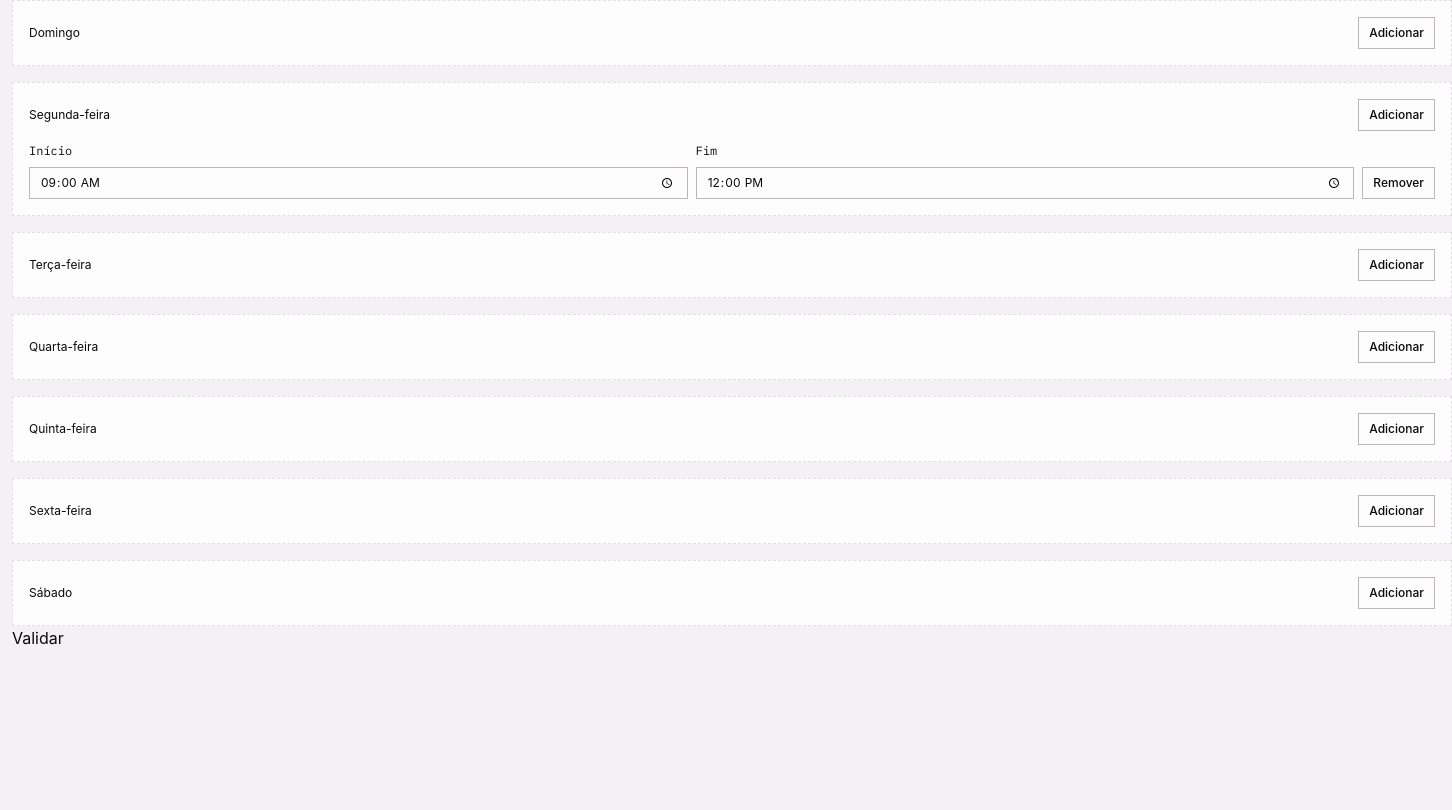
Test: WeeklyScheduleEditor (T33, spec.md SCH-02/SCH-03/SCH-08) › removing a window via its "Remover" button drops that row from the weekday group
The width and height of the screenshot is (1452, 810).
Expected: the number of time fields labelled "Início" is 1, [29, 167, 688, 199]
Click the button "Remover" at {"x": 1399, "y": 183}, box [1362, 167, 1435, 199]
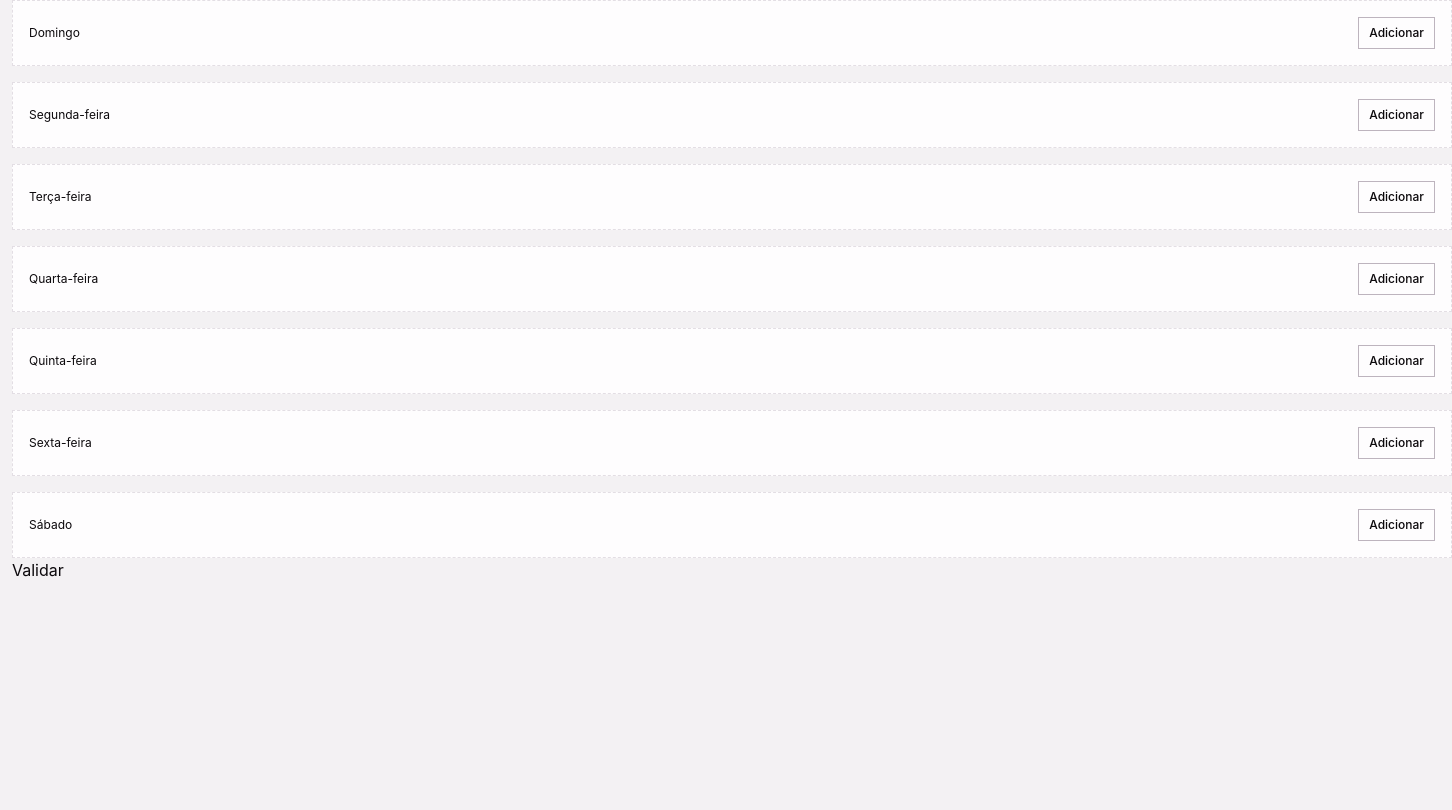
Expected: no labels labelled "Início" are shown
